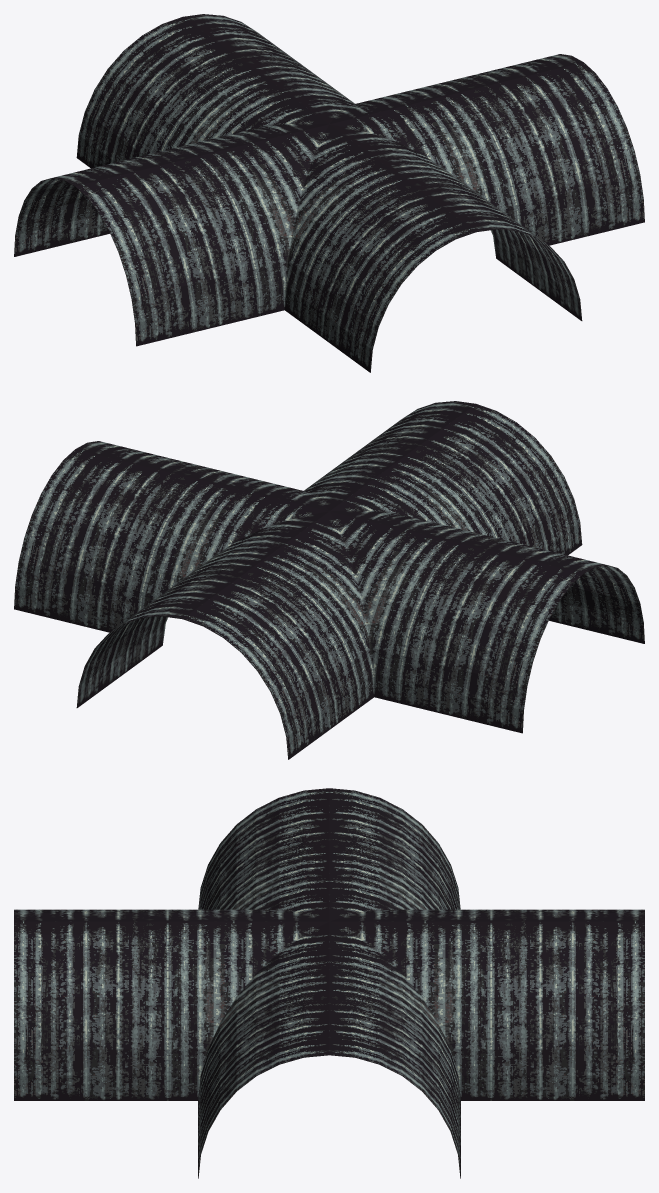
Rendered from SM_EU_MetalTunnel_Cross_0.fbx.
3 views of the same model, one above another, from view 1: azimuth 30°, elevation 25°; view 2: azimuth 150°, elevation 25°; view 3: azimuth 270°, elevation 25° (orthographic). The views are drawn at different scales.
Visible parts, largest first — view 1: SM_EU_MetalTunnel_Cross_0; view 2: SM_EU_MetalTunnel_Cross_0; view 3: SM_EU_MetalTunnel_Cross_0.
Part boxes in pixels (x1,y1,x2,y2): SM_EU_MetalTunnel_Cross_0: [14, 14, 644, 372]; SM_EU_MetalTunnel_Cross_0: [14, 401, 644, 759]; SM_EU_MetalTunnel_Cross_0: [14, 788, 644, 1178].
Bounding box in the file's own units: 12 × 12 × 2.6.
